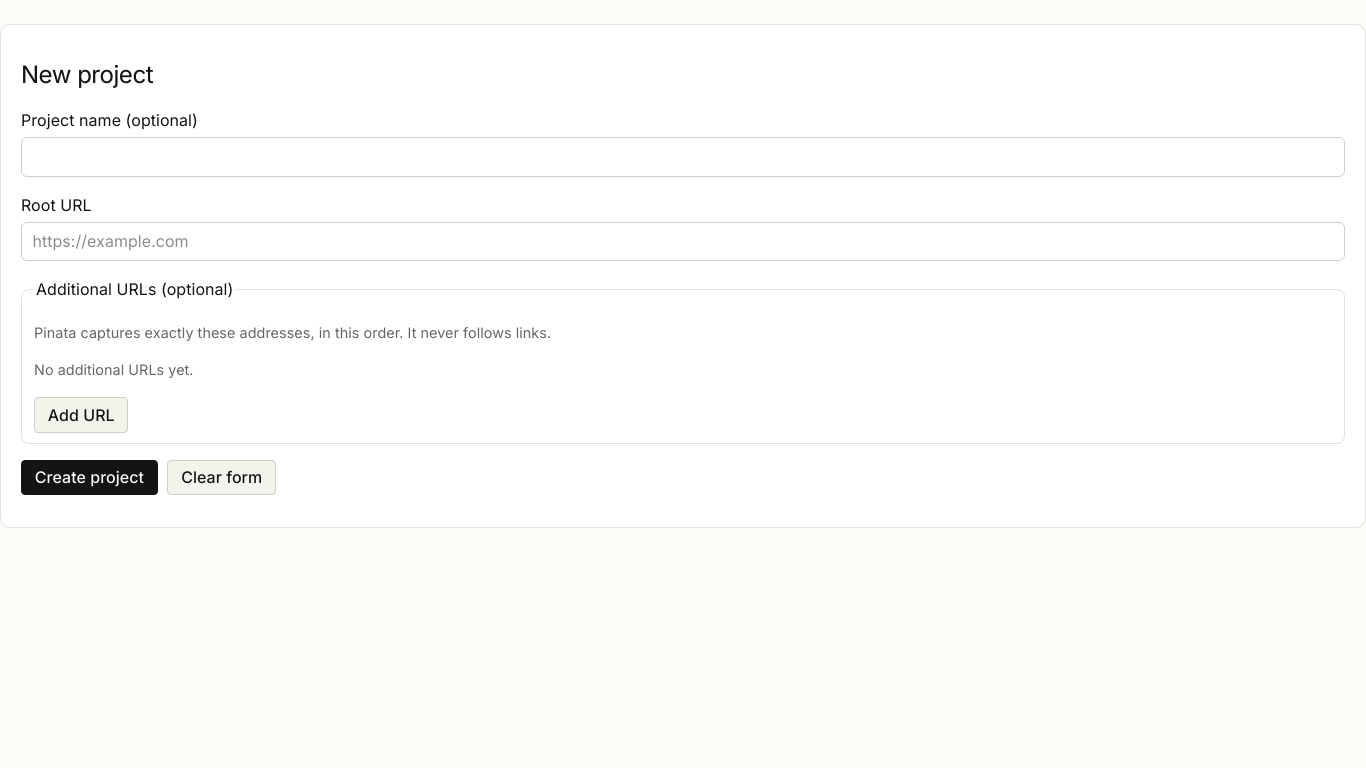
Test: server corrections › a form-level limit is reported once, without row noise
In the field labelled "Root URL": (683, 241) [21,222,1345,261], type "https://chickpea.co"
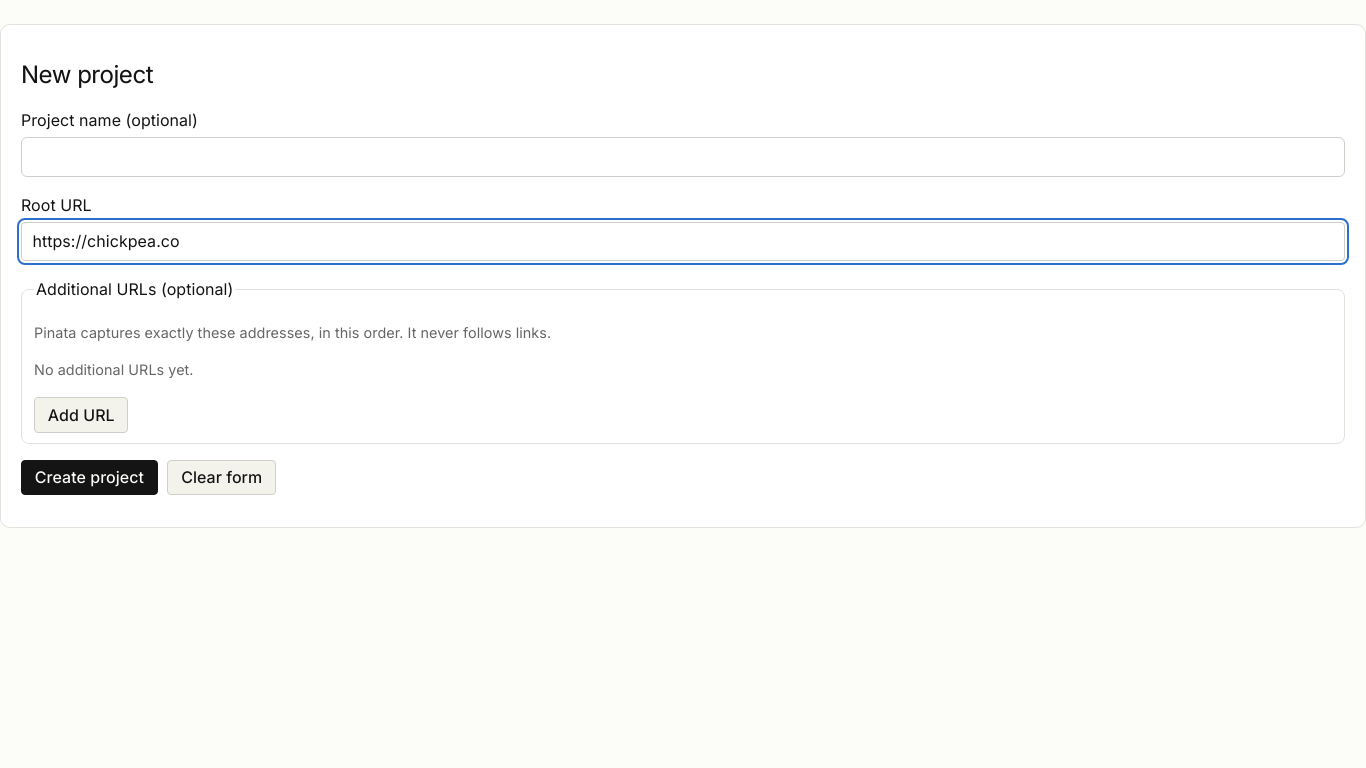
Click the button "Create project": (89, 477) [21,460,158,495]
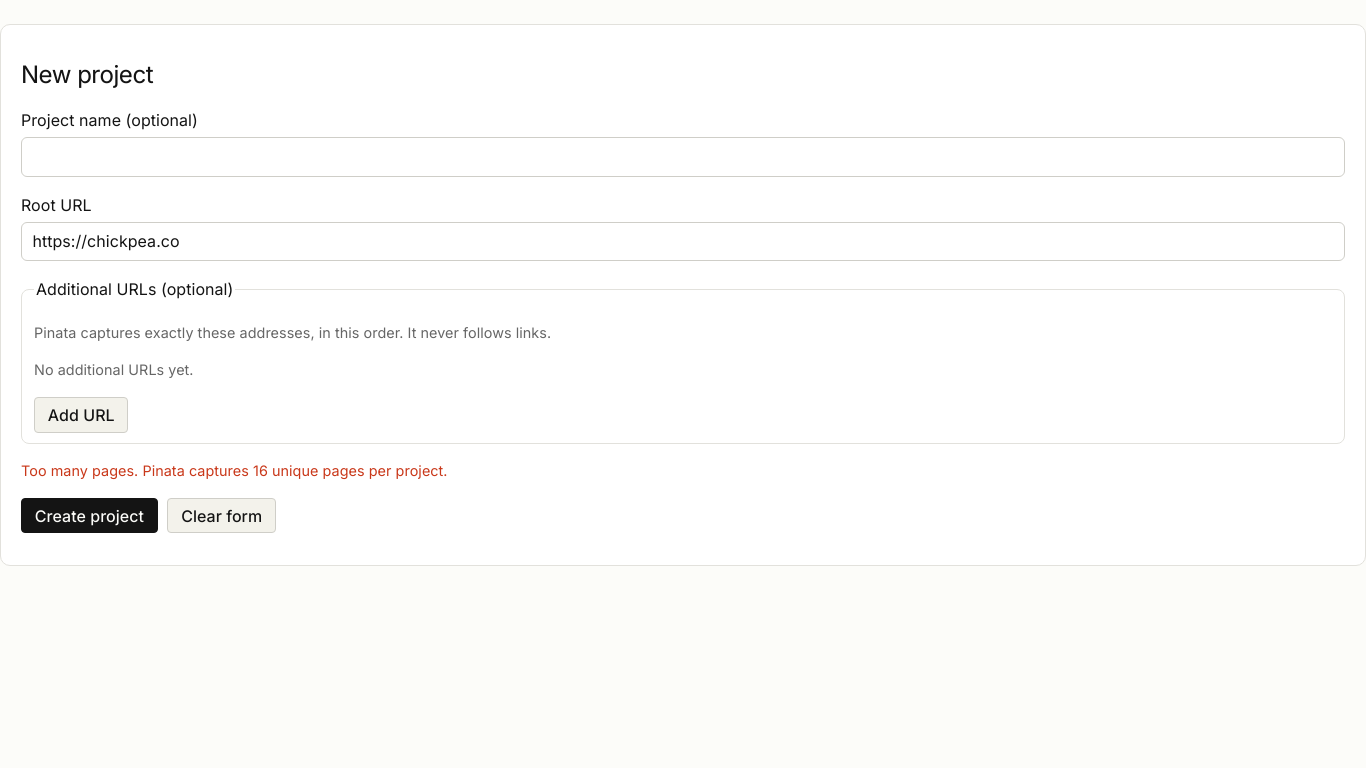
Check: the number of messages is 1, box [21,462,448,478]
Check: the message shows "unique pages per project", box [21,462,448,478]
